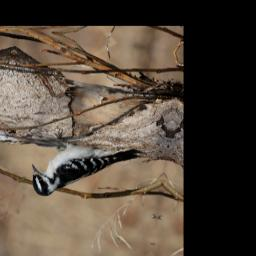Woodpecker: (27, 124, 146, 211)
